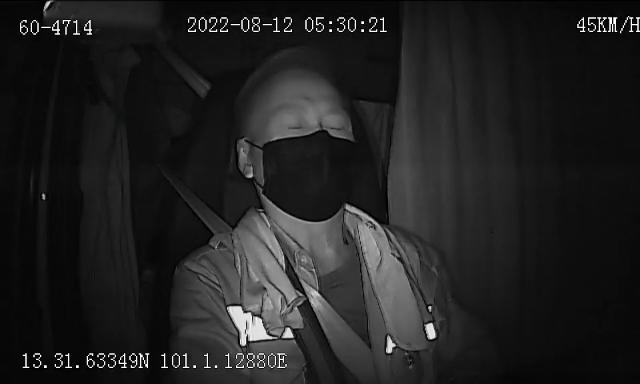Seatbelt: (182, 168, 380, 384)
